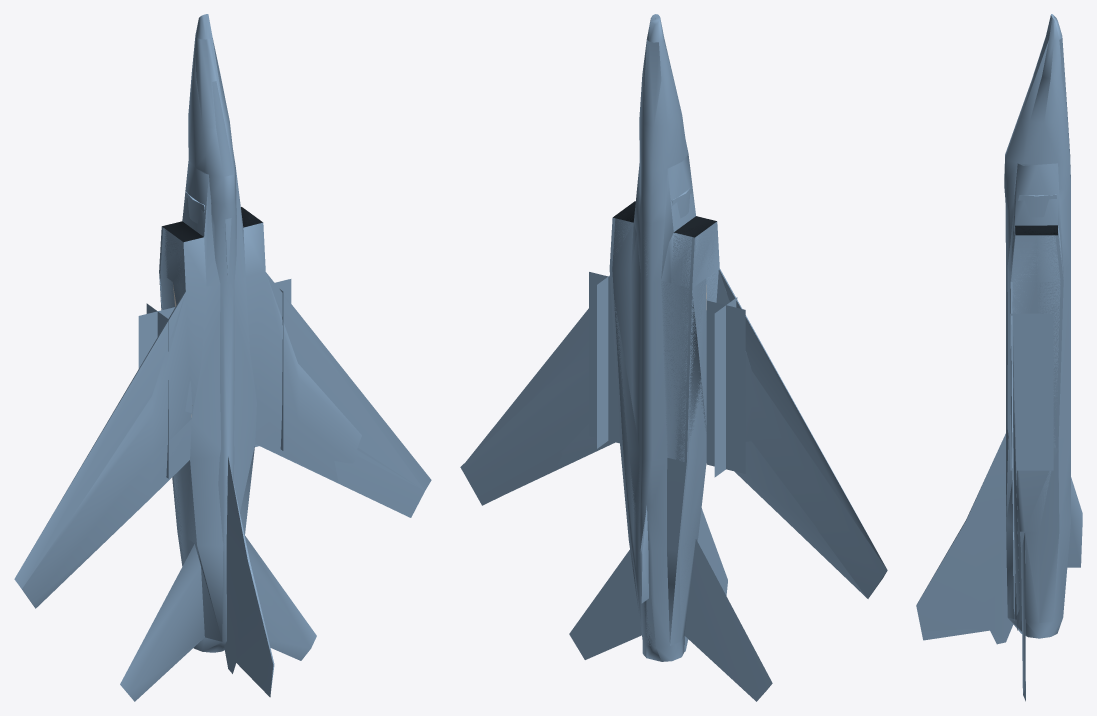
File: mig27.glb
3 renders of one model, left to right at view 1: azimuth 30°, elevation 25°; view 2: azimuth 150°, elevation 25°; view 3: azimuth 270°, elevation 25°, orthographic. The views are drawn at different scales.
Parts seen in each view (by area): view 1: db_mig27_lv1_LOD child0_wing1a_p13718_Geometry_0.001, db_mig27_lv2_LOD child0_bod2_p13959_Geometry_0.001, db_mig27_lv1_LOD child0_wing1_p13916_Geometry_0.001, db_mig27_lv3_LOD child0_wing3a_p14613_Geometry_0.001, db_mig27_lv1_LOD child0_body_pl1_Geometry_0.001, db_mig27_lv3_LOD child0_wing3_p14529_Geometry_0.001, db_mig27_lv1_LOD child0_rudder_p13872_Geometry_0.001, db_mig27_lv1_LOD child0_stab1a_p13870_Geometry_0.001, db_mig27_lv1_LOD child0_eng1a_p13818_Geometry_0.001, db_mig27_lv2_LOD child0_eng2_p14098_Geometry_0.001, db_mig27_lv1_LOD child0_stab1_p13913_Geometry_0.001, db_mig27_lv3_LOD child0_eng3_p14502_Geometry_0.001 (+6 smaller); view 2: db_mig27_lv1_LOD child0_body_pl1_Geometry_0.001, db_mig27_lv1_LOD child0_wing1_p13916_Geometry_0.001, db_mig27_lv1_LOD child0_wing1a_p13718_Geometry_0.001, db_mig27_lv2_LOD child0_eng2_p14098_Geometry_0.001, db_mig27_lv1_LOD child0_eng1a_p13818_Geometry_0.001, db_mig27_lv3_LOD child0_wing3_p14529_Geometry_0.001, db_mig27_weap_LOD child0_aa2_p14659_Geometry_0.001, db_mig27_lv1_LOD child0_eng1_p13883_Geometry_0.001, db_mig27_lv1_LOD child0_stab1a_p13870_Geometry_0.001, db_mig27_lv3_LOD child0_eng3_p14502_Geometry_0.001, db_mig27_weap_LOD child0_g351_p14663_Geometry_0.001, db_mig27_lv1_LOD child0_stab1_p13913_Geometry_0.001 (+8 smaller); view 3: db_mig27_lv1_LOD child0_rudder_p13872_Geometry_0.001, db_mig27_lv1_LOD child0_body_pl1_Geometry_0.001, db_mig27_weap_LOD child0_g351_p14663_Geometry_0.001, db_mig27_lv1_LOD child0_eng1_p13883_Geometry_0.001, db_mig27_lv2_LOD child0_eng2a_p14223_Geometry_0.001, db_mig27_lv3_LOD child0_eng3a_p14581_Geometry_0.001, db_mig27_lv2_LOD child0_bod2_p13959_Geometry_0.001, db_mig27_lv1_LOD child0_wing1_p13916_Geometry_0.001, db_mig27_lv1_LOD child0_fin_p13943_Geometry_0.001, db_mig27_lv1_LOD child0_nose_p13793_Geometry_0.001, db_mig27_lv1_LOD child0_cpit_p13815_Geometry_0.001, db_mig27_lv3_LOD child0_wing3a_p14613_Geometry_0.001 (+5 smaller).
Part boxes in pixels (bbox=[...]): db_mig27_lv1_LOD child0_wing1a_p13718_Geometry_0.001: bbox=[18, 292, 191, 608]; db_mig27_lv2_LOD child0_bod2_p13959_Geometry_0.001: bbox=[192, 36, 256, 641]; db_mig27_lv1_LOD child0_wing1_p13916_Geometry_0.001: bbox=[255, 272, 361, 482]; db_mig27_lv3_LOD child0_wing3a_p14613_Geometry_0.001: bbox=[257, 272, 431, 517]; db_mig27_lv1_LOD child0_body_pl1_Geometry_0.001: bbox=[188, 73, 236, 641]; db_mig27_lv3_LOD child0_wing3_p14529_Geometry_0.001: bbox=[14, 291, 192, 588]; db_mig27_lv1_LOD child0_rudder_p13872_Geometry_0.001: bbox=[224, 457, 274, 697]; db_mig27_lv1_LOD child0_stab1a_p13870_Geometry_0.001: bbox=[120, 544, 204, 701]; db_mig27_lv1_LOD child0_eng1a_p13818_Geometry_0.001: bbox=[160, 228, 206, 564]; db_mig27_lv2_LOD child0_eng2_p14098_Geometry_0.001: bbox=[159, 226, 220, 566]; db_mig27_lv1_LOD child0_stab1_p13913_Geometry_0.001: bbox=[245, 536, 316, 660]; db_mig27_lv3_LOD child0_eng3_p14502_Geometry_0.001: bbox=[159, 160, 220, 310]; db_mig27_lv1_LOD child0_body_pl1_Geometry_0.001: bbox=[639, 75, 686, 647]; db_mig27_lv1_LOD child0_wing1_p13916_Geometry_0.001: bbox=[460, 346, 588, 505]; db_mig27_lv1_LOD child0_wing1a_p13718_Geometry_0.001: bbox=[716, 270, 887, 598]; db_mig27_lv2_LOD child0_eng2_p14098_Geometry_0.001: bbox=[661, 223, 719, 645]; db_mig27_lv1_LOD child0_eng1a_p13818_Geometry_0.001: bbox=[661, 221, 719, 641]; db_mig27_lv3_LOD child0_wing3_p14529_Geometry_0.001: bbox=[719, 268, 886, 598]; db_mig27_weap_LOD child0_aa2_p14659_Geometry_0.001: bbox=[706, 297, 745, 477]; db_mig27_lv1_LOD child0_eng1_p13883_Geometry_0.001: bbox=[612, 218, 642, 636]; db_mig27_lv1_LOD child0_stab1a_p13870_Geometry_0.001: bbox=[684, 539, 772, 701]; db_mig27_lv3_LOD child0_eng3_p14502_Geometry_0.001: bbox=[661, 154, 718, 461]; db_mig27_weap_LOD child0_g351_p14663_Geometry_0.001: bbox=[589, 272, 619, 448]; db_mig27_lv1_LOD child0_stab1_p13913_Geometry_0.001: bbox=[569, 550, 641, 659]; db_mig27_lv1_LOD child0_rudder_p13872_Geometry_0.001: bbox=[916, 433, 1013, 644]; db_mig27_lv1_LOD child0_body_pl1_Geometry_0.001: bbox=[1004, 76, 1070, 621]; db_mig27_weap_LOD child0_g351_p14663_Geometry_0.001: bbox=[1010, 313, 1053, 470]; db_mig27_lv1_LOD child0_eng1_p13883_Geometry_0.001: bbox=[1010, 226, 1063, 622]; db_mig27_lv2_LOD child0_eng2a_p14223_Geometry_0.001: bbox=[1007, 227, 1063, 622]; db_mig27_lv3_LOD child0_eng3a_p14581_Geometry_0.001: bbox=[1007, 163, 1063, 531]; db_mig27_lv2_LOD child0_bod2_p13959_Geometry_0.001: bbox=[1006, 36, 1067, 620]; db_mig27_lv1_LOD child0_wing1_p13916_Geometry_0.001: bbox=[1010, 289, 1019, 630]; db_mig27_lv1_LOD child0_fin_p13943_Geometry_0.001: bbox=[1067, 477, 1082, 567]; db_mig27_lv1_LOD child0_nose_p13793_Geometry_0.001: bbox=[1042, 14, 1062, 78]; db_mig27_lv1_LOD child0_cpit_p13815_Geometry_0.001: bbox=[1004, 117, 1023, 188]; db_mig27_lv3_LOD child0_wing3a_p14613_Geometry_0.001: bbox=[1010, 282, 1016, 620].
Size of the model in its own units: 10.88 by 16.48 by 3.84.
